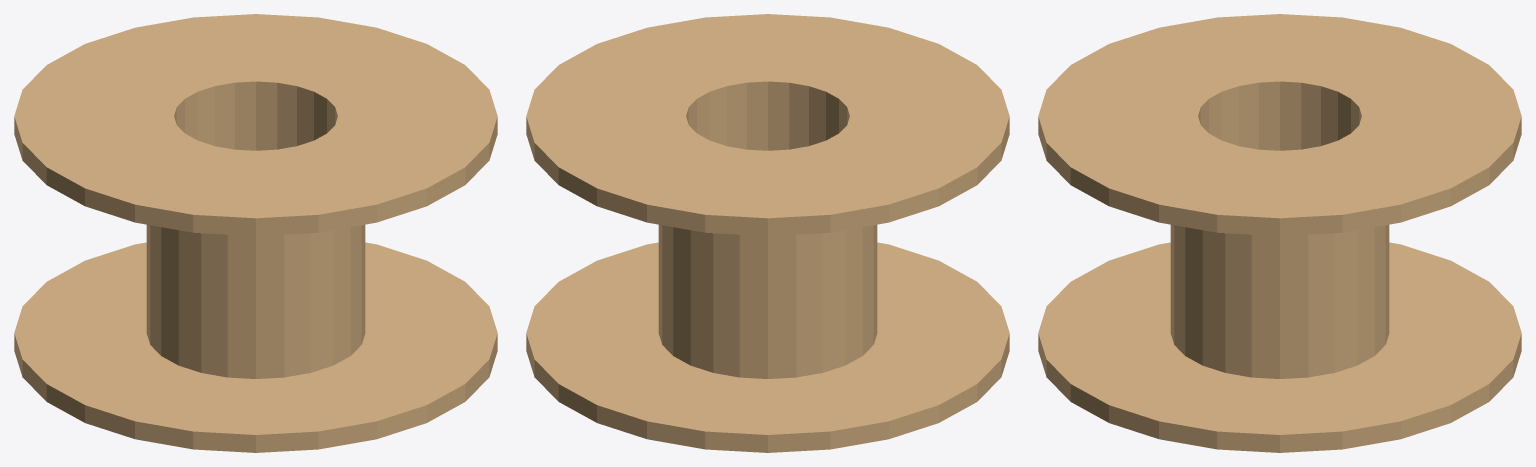
File: Prop_Junk_Cable_Reel_Drum_Wooden_02.FBX
3 renders of one model, left to right at view 1: azimuth 30°, elevation 25°; view 2: azimuth 150°, elevation 25°; view 3: azimuth 270°, elevation 25°, orthographic.
Parts seen in each view (by area): view 1: Prop_Junk_Cable_Reel_Drum_Wooden_02; view 2: Prop_Junk_Cable_Reel_Drum_Wooden_02; view 3: Prop_Junk_Cable_Reel_Drum_Wooden_02.
Part boxes in pixels (<box>): Prop_Junk_Cable_Reel_Drum_Wooden_02: <box>14,14,497,452</box>; Prop_Junk_Cable_Reel_Drum_Wooden_02: <box>526,14,1009,452</box>; Prop_Junk_Cable_Reel_Drum_Wooden_02: <box>1038,14,1521,452</box>.
Size of the model in its own units: 970 by 519 by 970.
